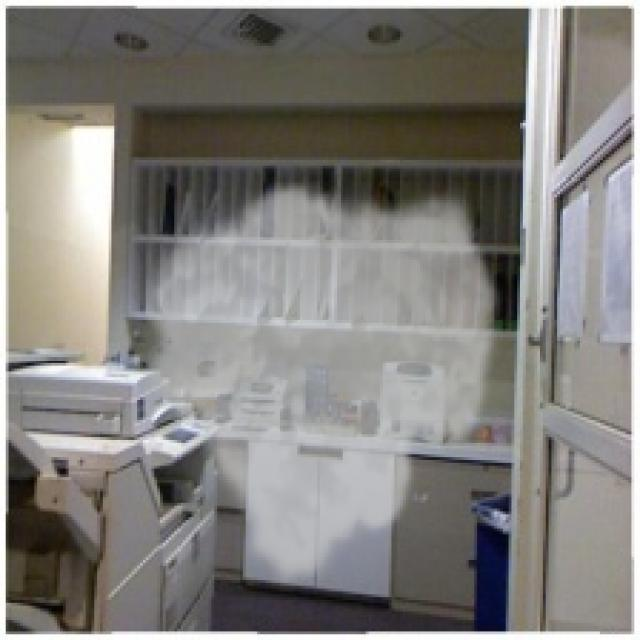Smoke: (134, 177, 506, 592)
